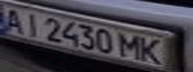0: (93, 26, 118, 55)
2: (39, 15, 63, 43)
3: (75, 22, 96, 51)
4: (57, 19, 81, 47)
A: (0, 6, 30, 34)
I: (18, 9, 45, 38)
K: (136, 34, 169, 65)
M: (115, 30, 145, 61)
